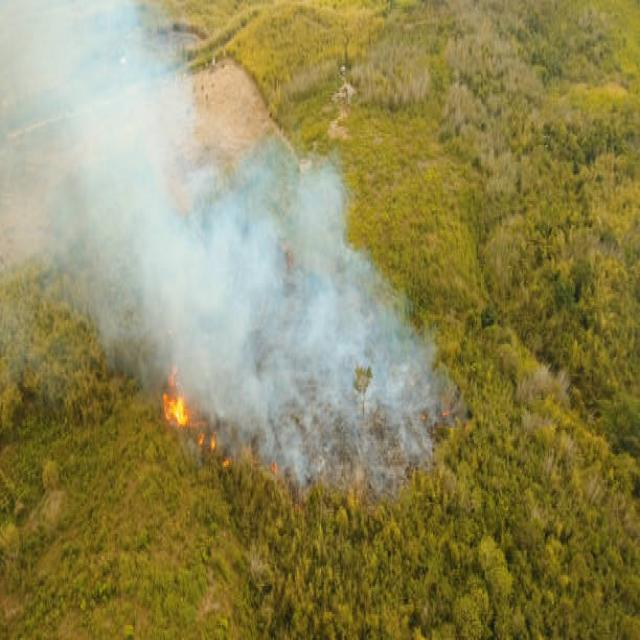Fire: (158, 387, 220, 452)
Smoke: (0, 0, 456, 486)
